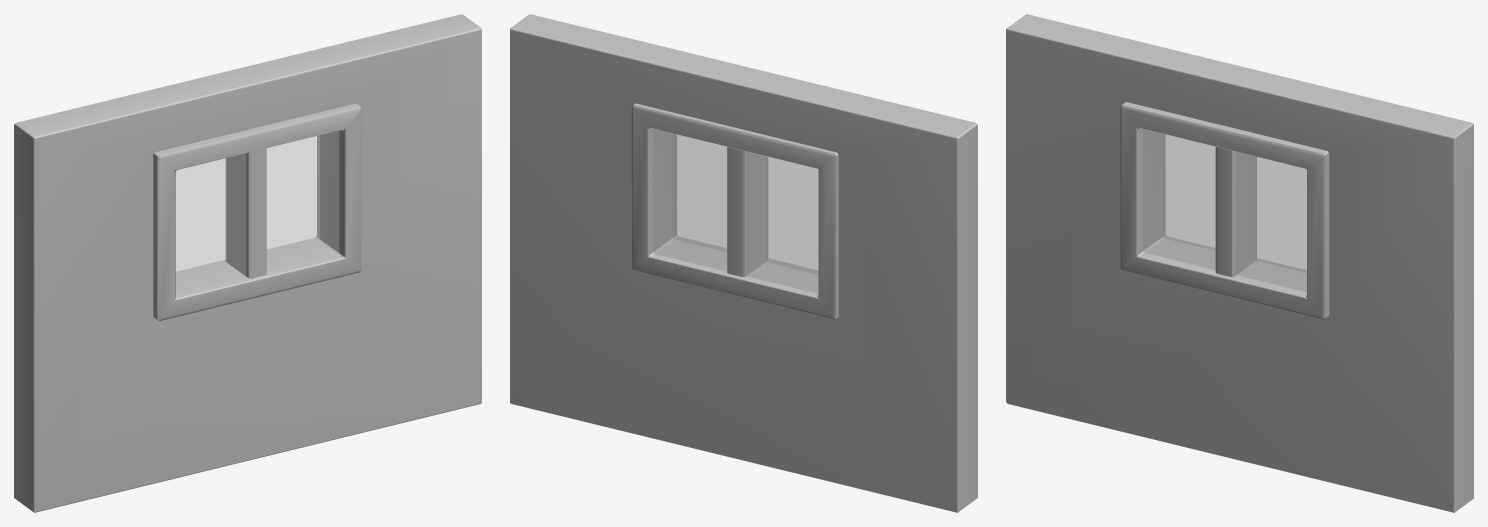
The model's file is Wall_69.fbx.
3 views of the same model, side by side, from view 1: azimuth 30°, elevation 25°; view 2: azimuth 150°, elevation 25°; view 3: azimuth 330°, elevation 25° (orthographic).
Parts seen in each view (by area): view 1: Wall_69; view 2: Wall_69; view 3: Wall_69.
Boxes of the visible parts, x1,y1,x2,y2 form: Wall_69: (14,14,481,512); Wall_69: (510,14,977,512); Wall_69: (1006,14,1473,512).
Size of the model in its own units: 500 by 400 by 55.95.
